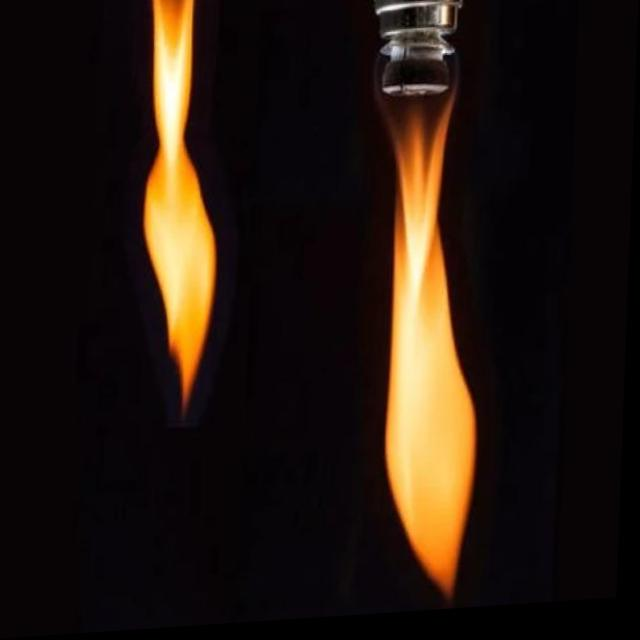Fire: (366, 32, 503, 614), (127, 0, 242, 431)
